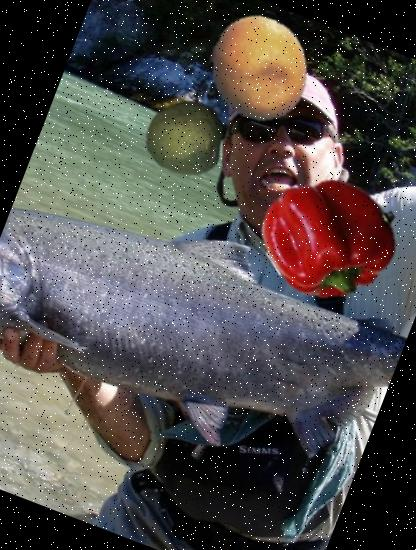Kumquats: (190, 0, 326, 136)
Limes: (134, 89, 235, 191)
Pepper: (246, 152, 413, 319)
